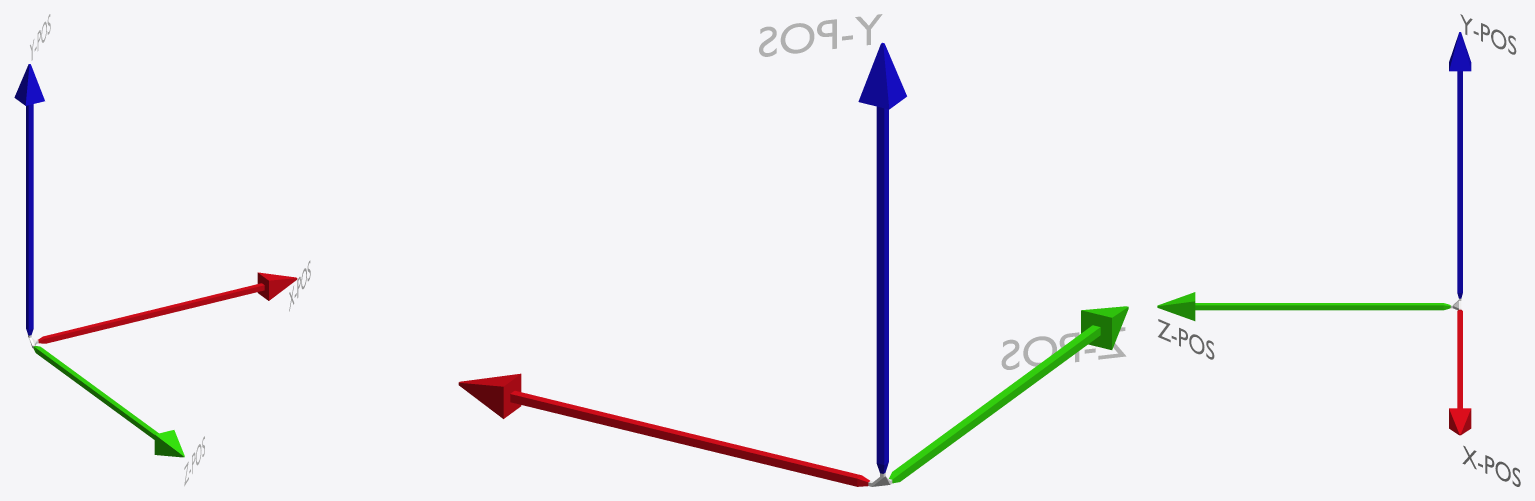
The model's file is coordinatesystem.glb.
The picture shows the model from 3 angles, left to right: view 1: azimuth 30°, elevation 25°; view 2: azimuth 150°, elevation 25°; view 3: azimuth 270°, elevation 25°; orthographic projection. The views are drawn at different scales.
Visible parts, largest first — view 1: Coordinatesystem; view 2: Coordinatesystem; view 3: Coordinatesystem.
Boxes of the visible parts, bbox=[...] form: Coordinatesystem: bbox=[14, 14, 310, 486]; Coordinatesystem: bbox=[458, 14, 1128, 486]; Coordinatesystem: bbox=[1157, 14, 1520, 486].
Size of the model in its own units: 4.3 by 4.24 by 4.29.
